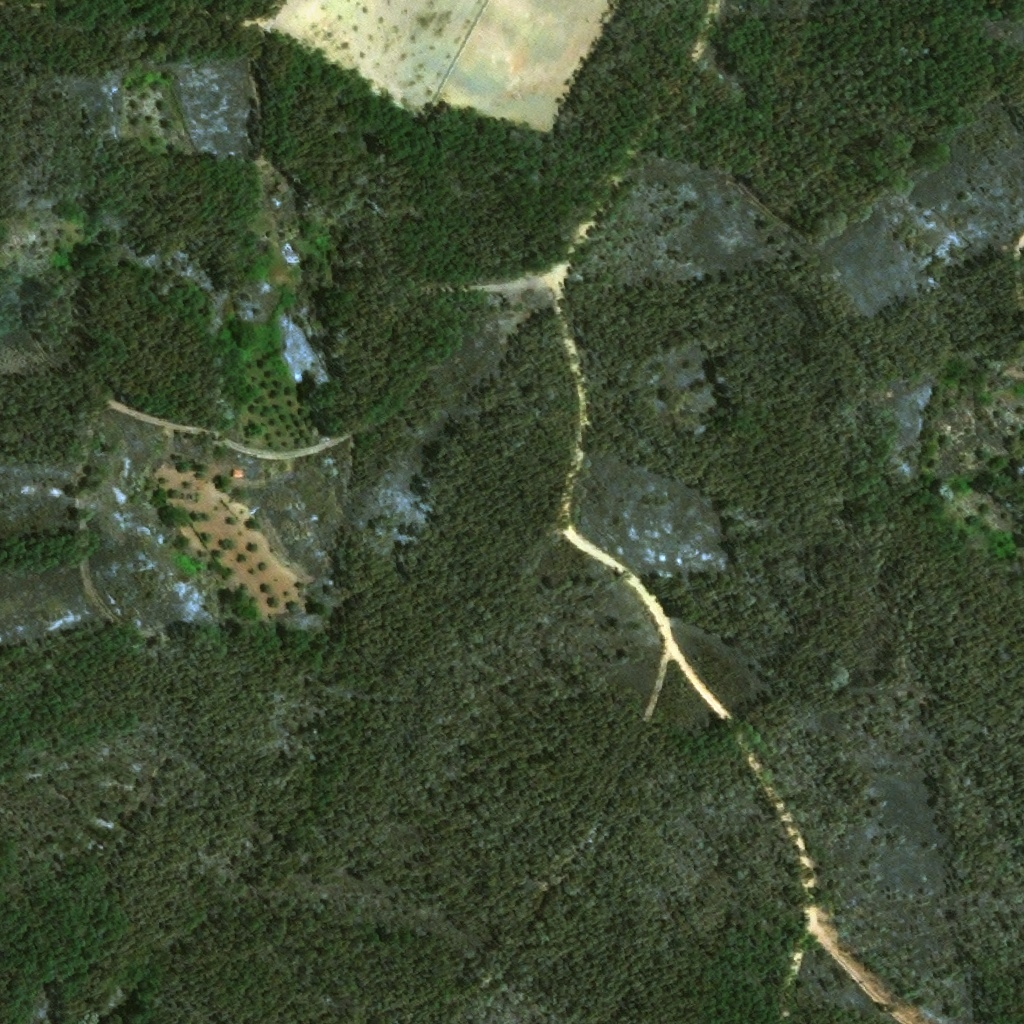0 no-damage: (232, 469, 243, 478)
